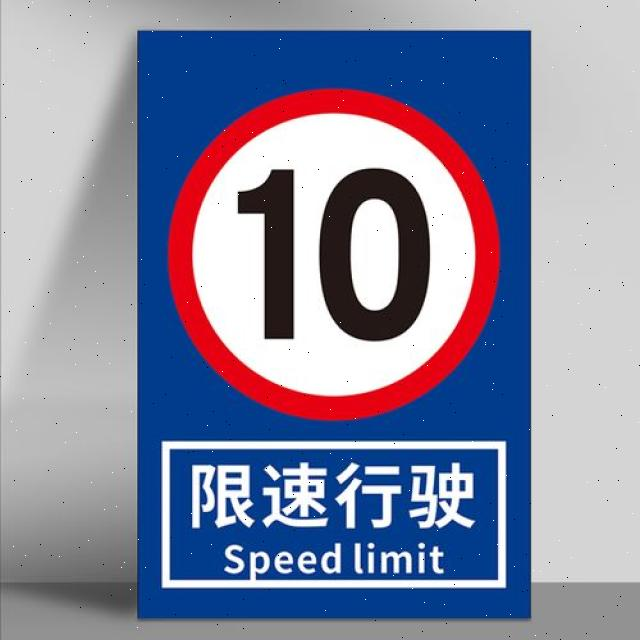speed limit 10: (169, 90, 499, 423)
